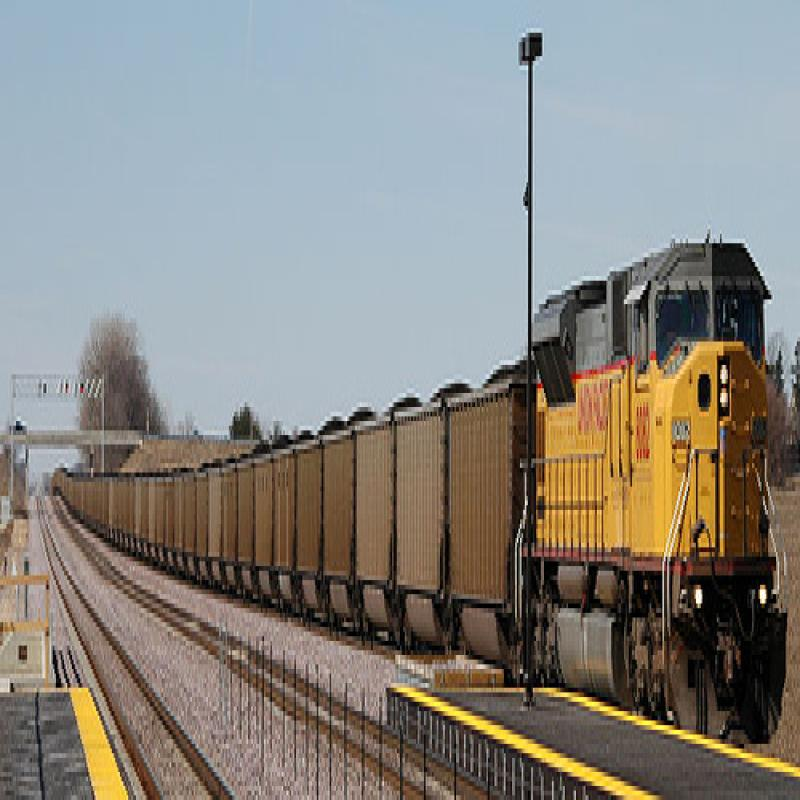train: (52, 235, 790, 749)
